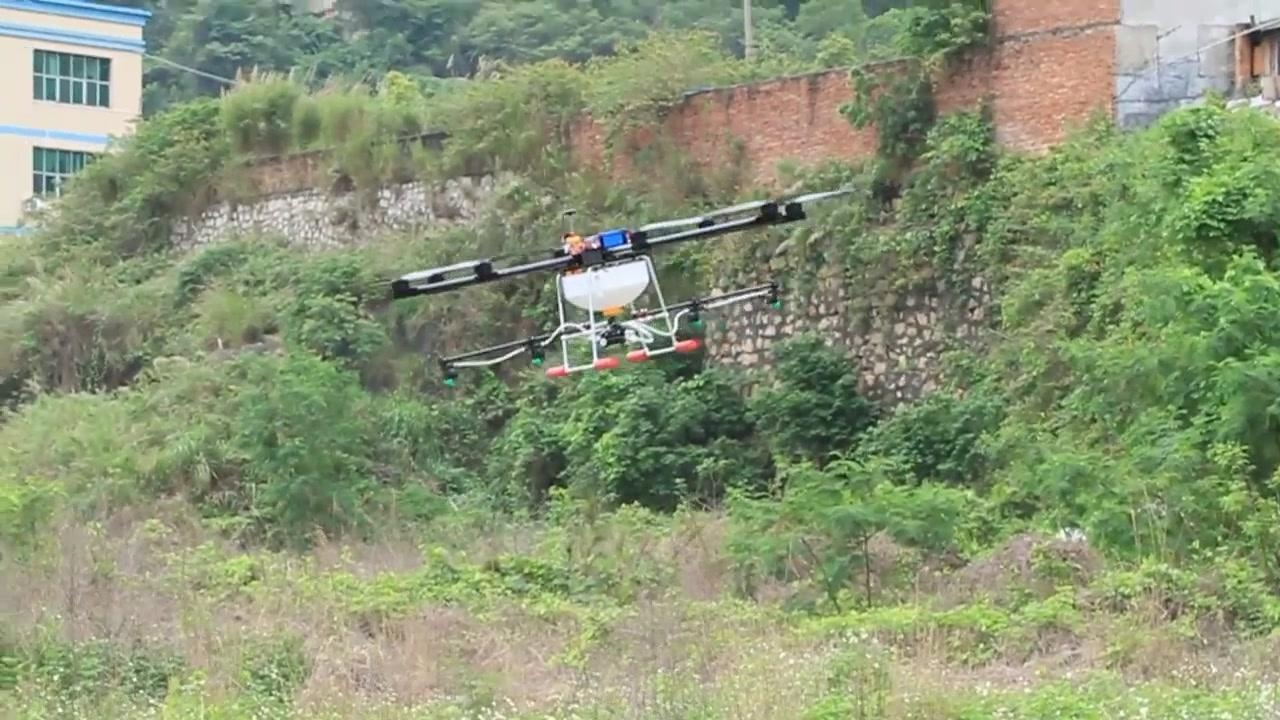UAV: (393, 189, 854, 387)
